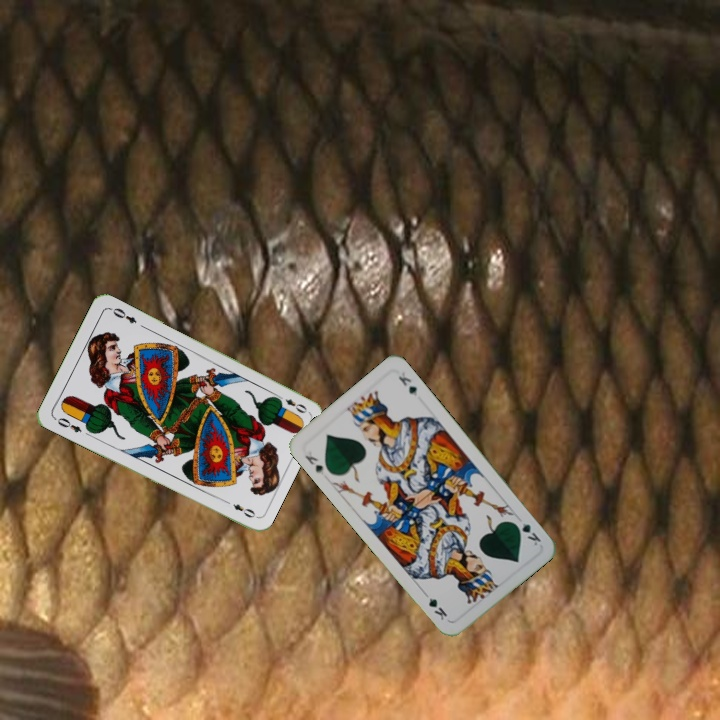EO: (272, 391, 310, 416), (53, 413, 84, 435)
GK: (509, 518, 543, 549), (301, 451, 327, 478)
